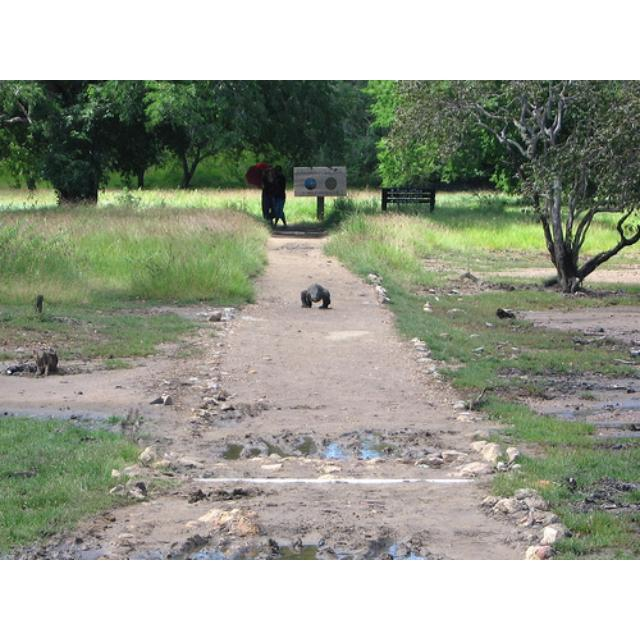KomodoDragon: (299, 284, 333, 307)
